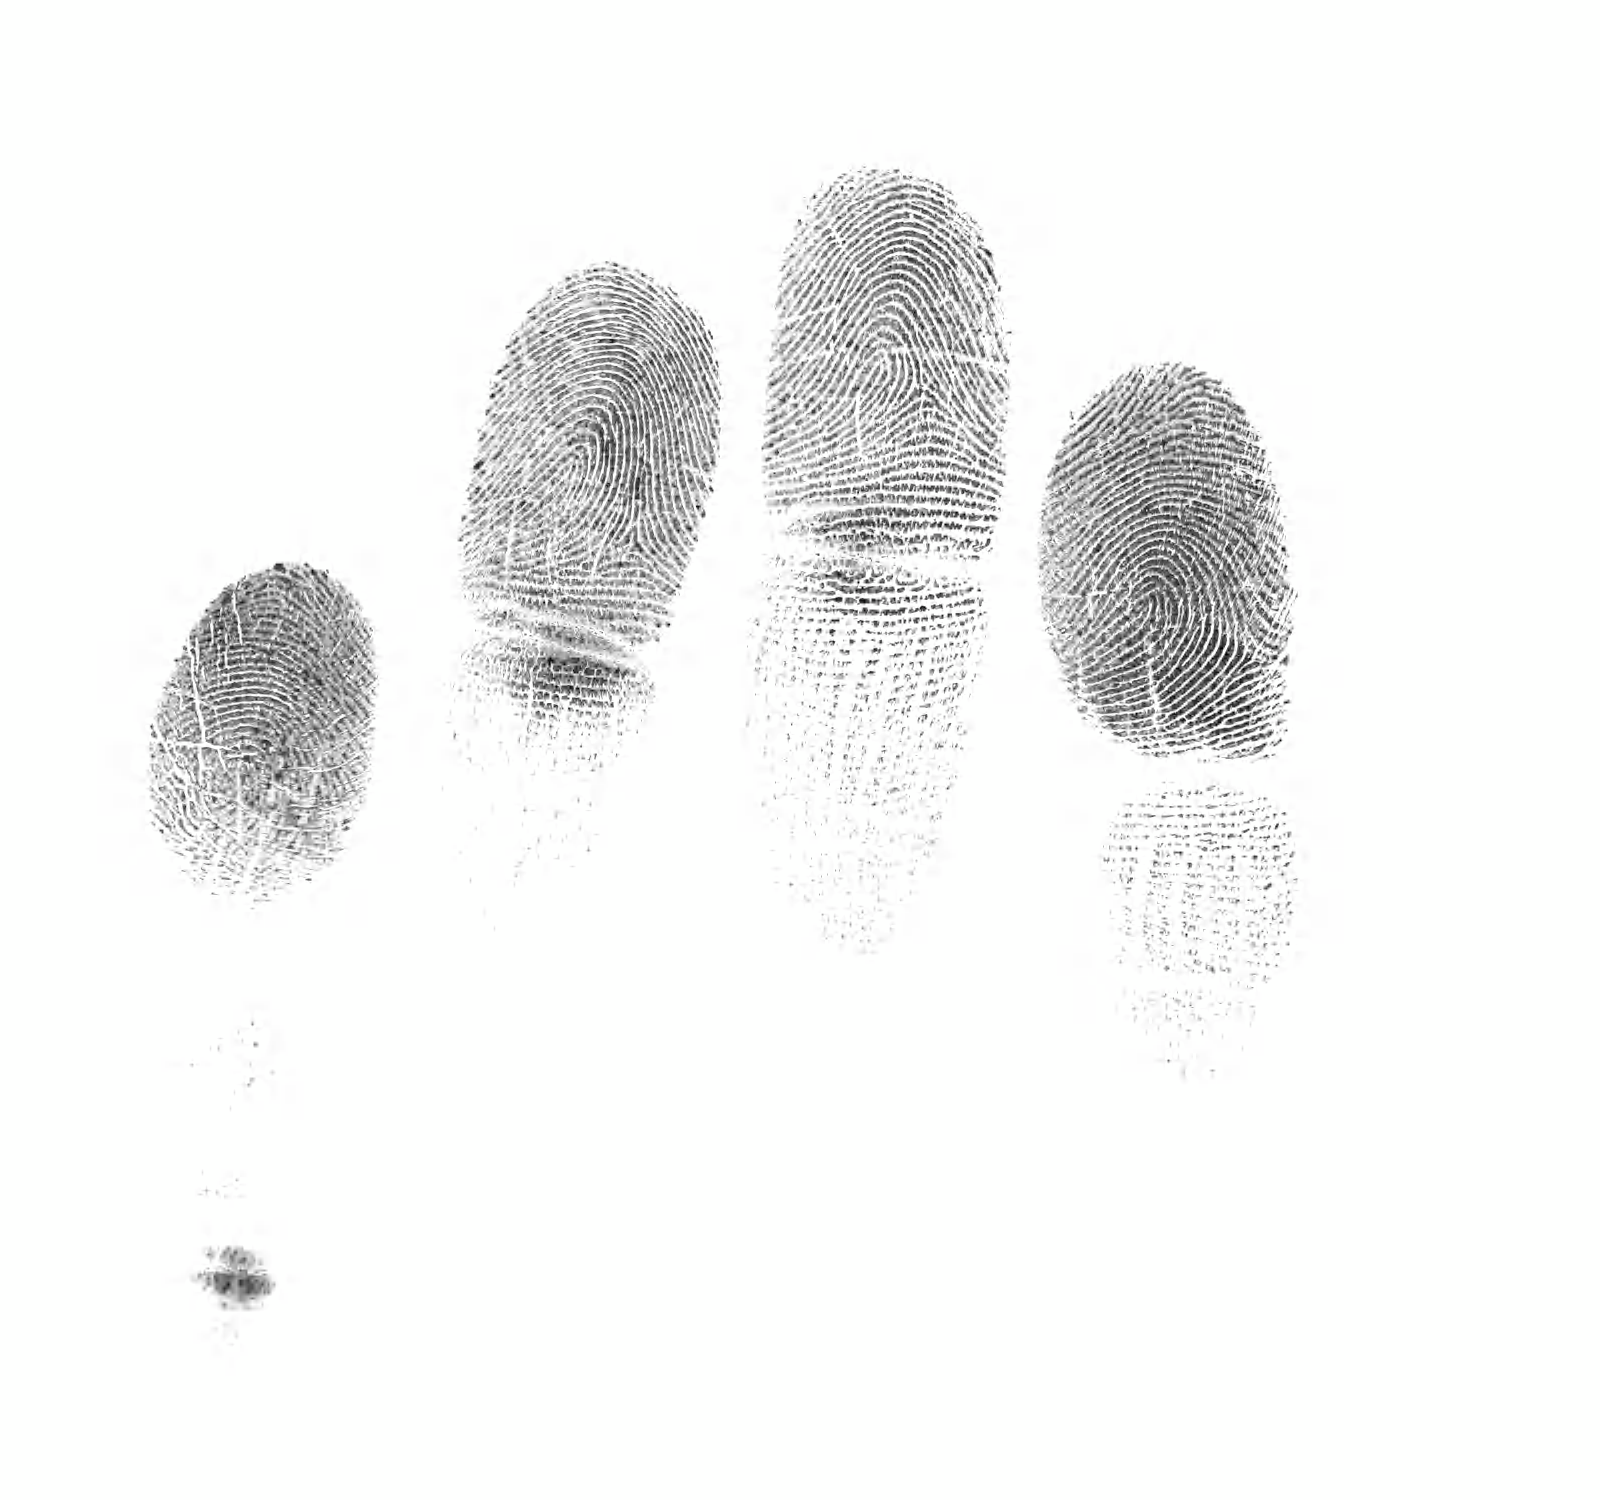distal: (1030, 336, 1331, 774), (438, 244, 744, 646), (753, 140, 1025, 570), (104, 546, 390, 933)
proximal: (719, 529, 1001, 998), (1036, 750, 1374, 1119), (436, 610, 678, 911)
